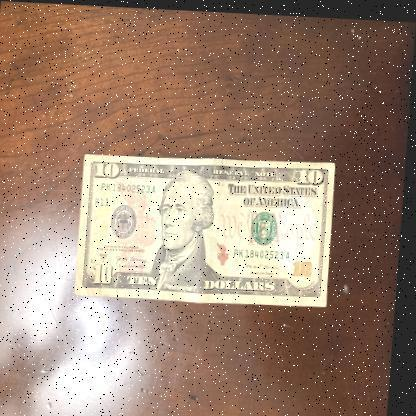ten-front: (76, 146, 339, 306)
